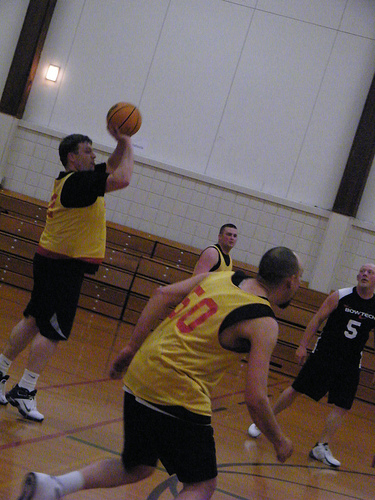basketball: (107, 103, 141, 137)
